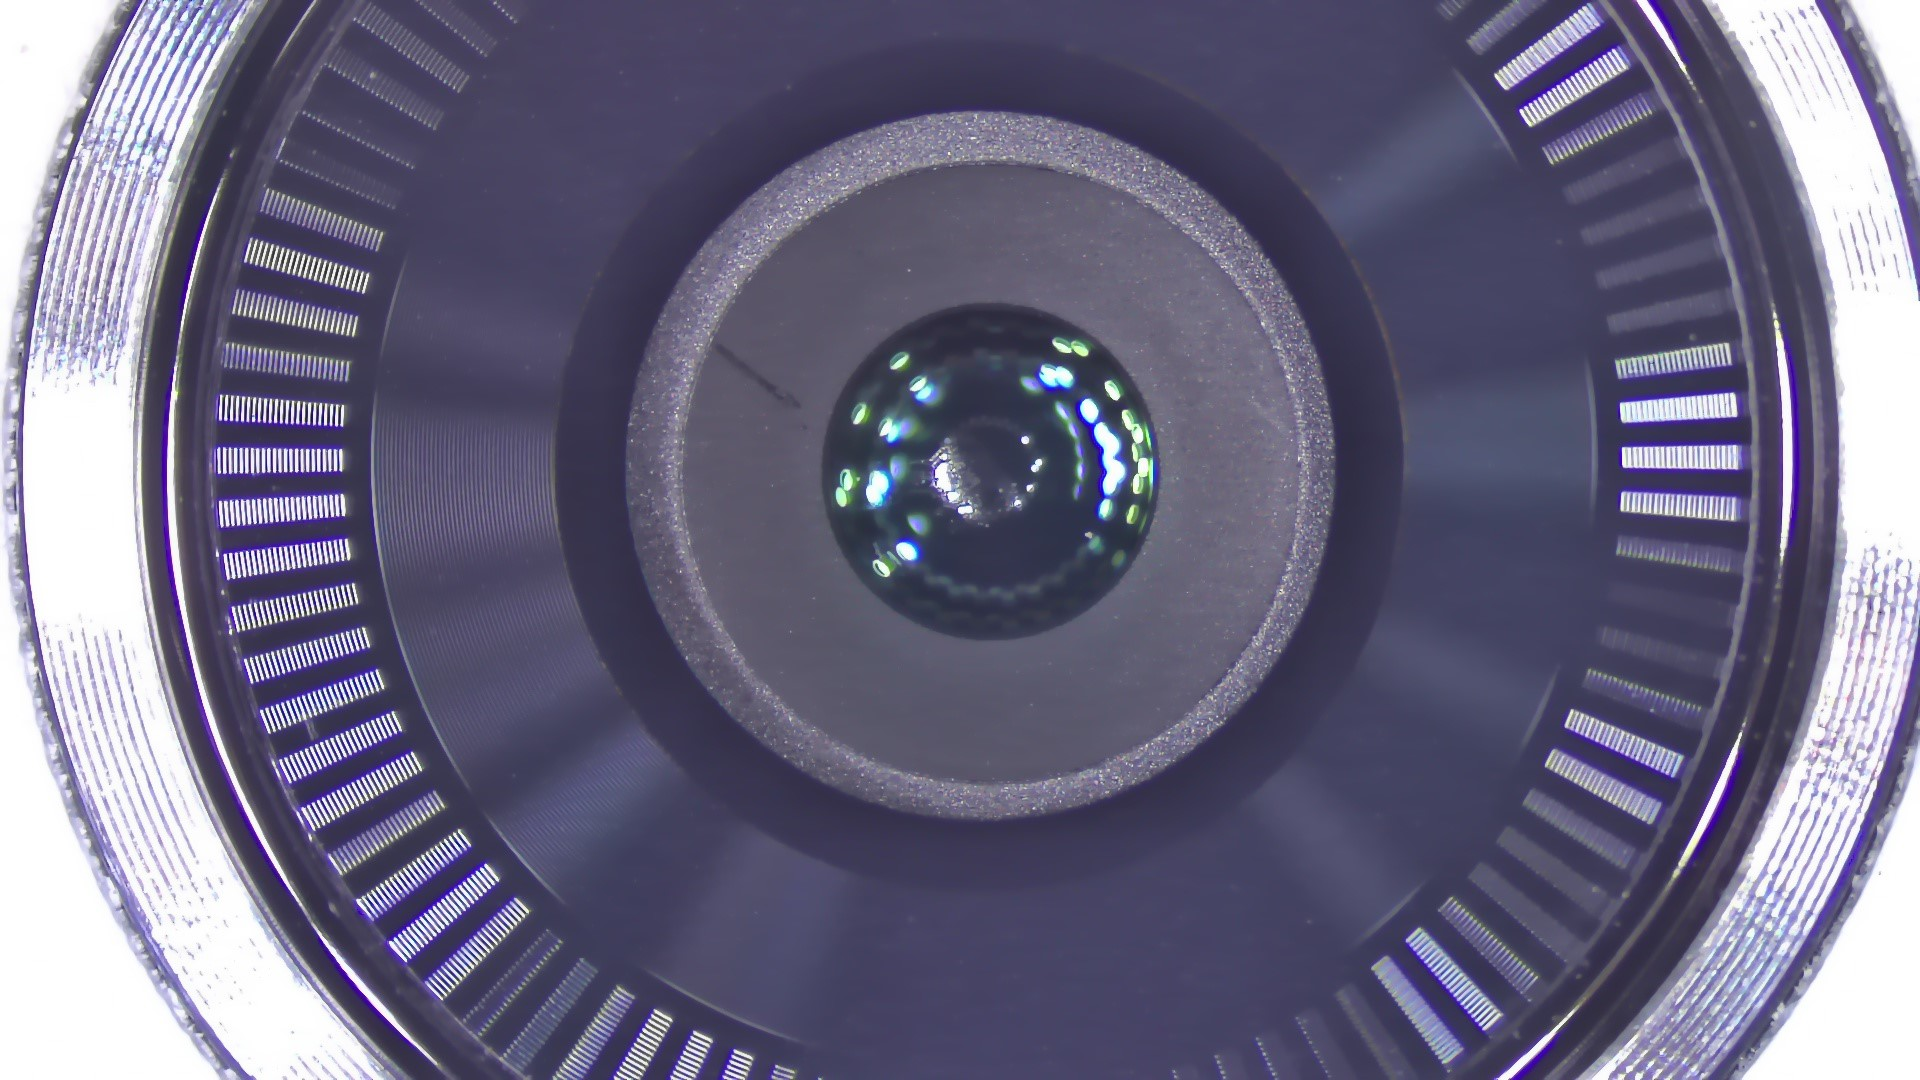crack: (702, 324, 818, 436)
